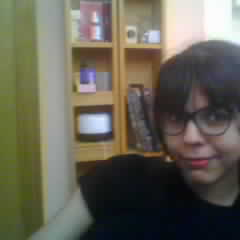without_mask: (161, 69, 240, 186)
